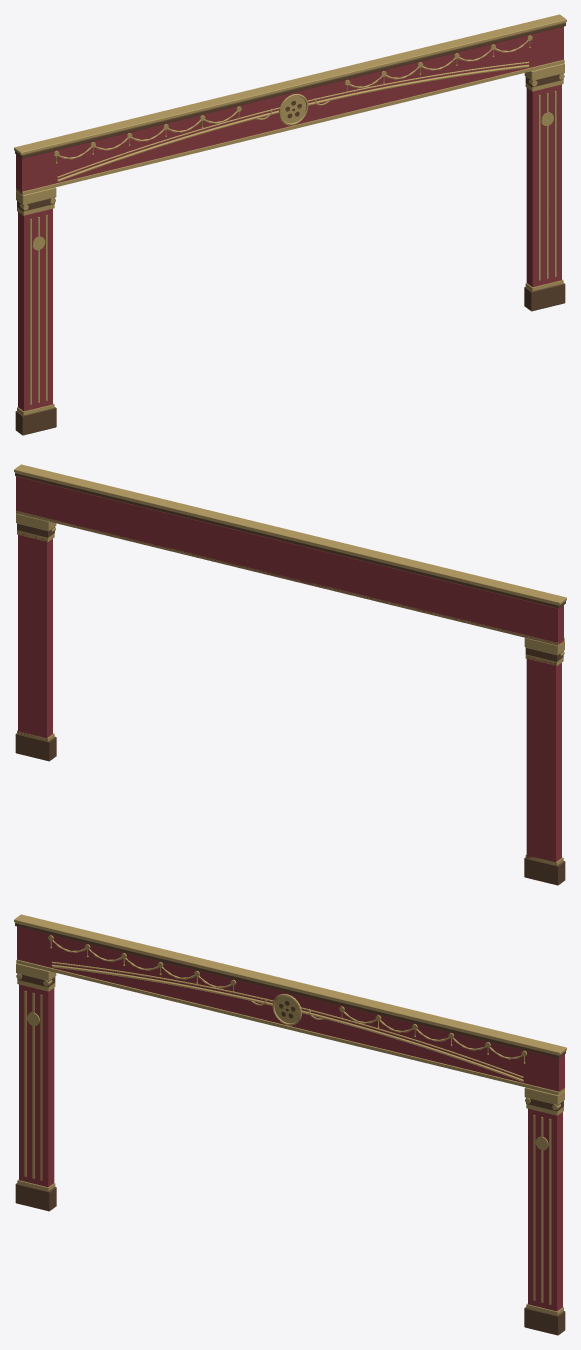
The model's file is proscenium.glb.
3 renders of one model, top to bottom at view 1: azimuth 30°, elevation 25°; view 2: azimuth 150°, elevation 25°; view 3: azimuth 330°, elevation 25°, orthographic.
Visible parts, largest first — view 1: wall_theater__proscenium__solid, brass__proscenium__solid, dark_wood__proscenium__solid; view 2: wall_theater__proscenium__solid, brass__proscenium__solid, dark_wood__proscenium__solid; view 3: wall_theater__proscenium__solid, brass__proscenium__solid, dark_wood__proscenium__solid.
Boxes of the visible parts, box(x1,y1,x2,y2) form: wall_theater__proscenium__solid: box(16, 26, 563, 411); brass__proscenium__solid: box(14, 14, 566, 415); dark_wood__proscenium__solid: box(15, 22, 565, 435); wall_theater__proscenium__solid: box(16, 476, 563, 862); brass__proscenium__solid: box(14, 464, 566, 865); dark_wood__proscenium__solid: box(15, 472, 565, 885); wall_theater__proscenium__solid: box(17, 926, 564, 1311); brass__proscenium__solid: box(14, 914, 566, 1315); dark_wood__proscenium__solid: box(15, 922, 565, 1335).
Size of the model in its own units: 26.2 by 13 by 0.61.
